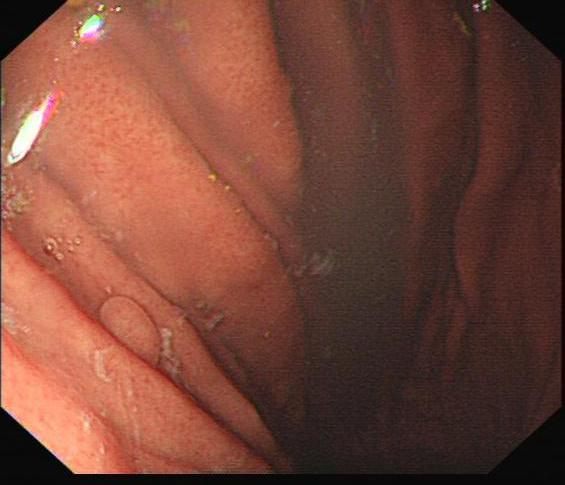Polyp: (85, 282, 178, 389)
